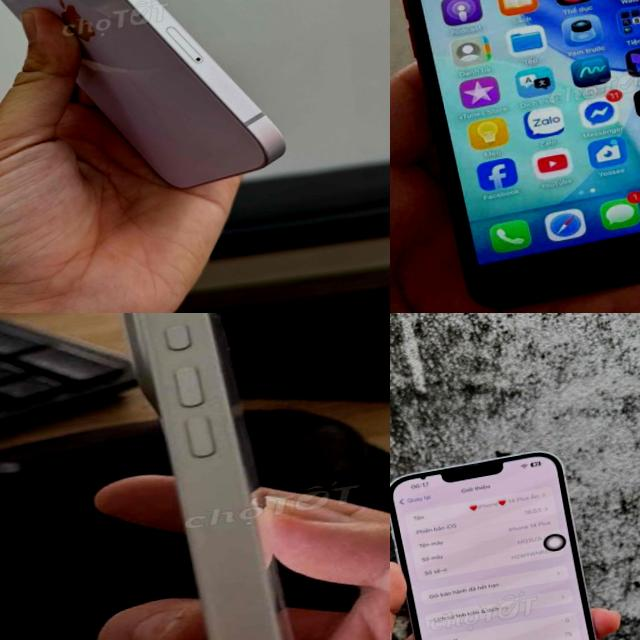screen_defect: (412, 466, 444, 492)
